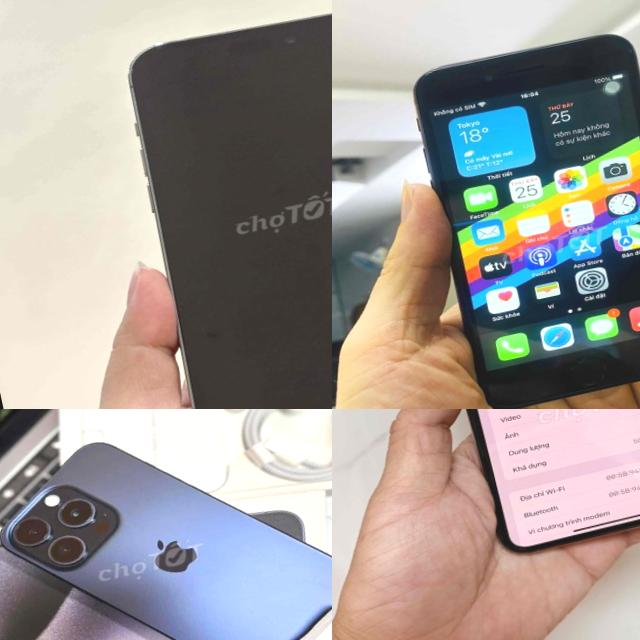gen_14: (92, 0, 332, 409)
gen_15: (0, 409, 332, 640)
gen_7_8: (393, 17, 640, 409)
gen_x_xs: (410, 409, 640, 567)
